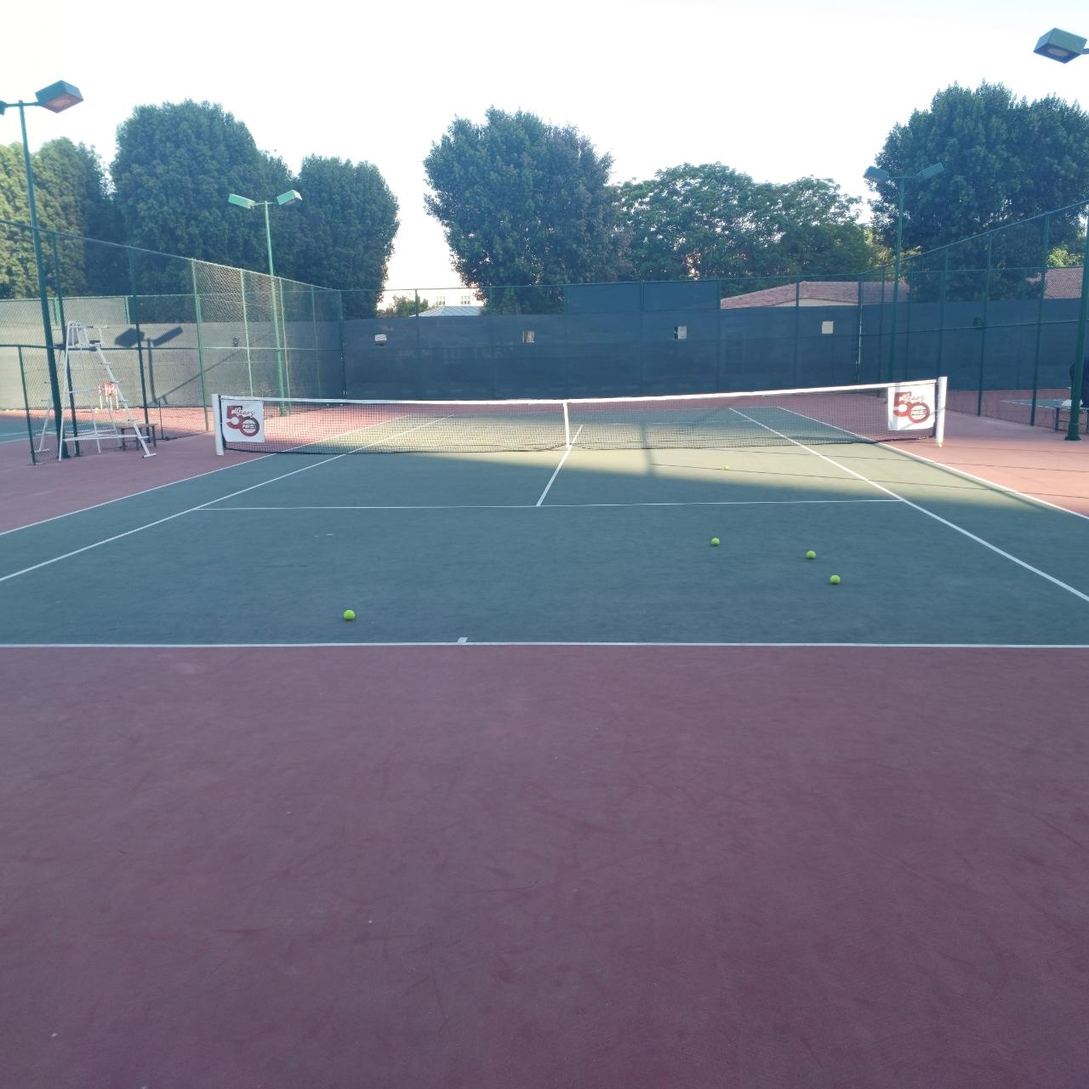tennis-ball: (341, 607, 356, 621), (803, 548, 816, 559), (709, 534, 721, 545), (828, 573, 840, 584), (724, 465, 729, 471)
